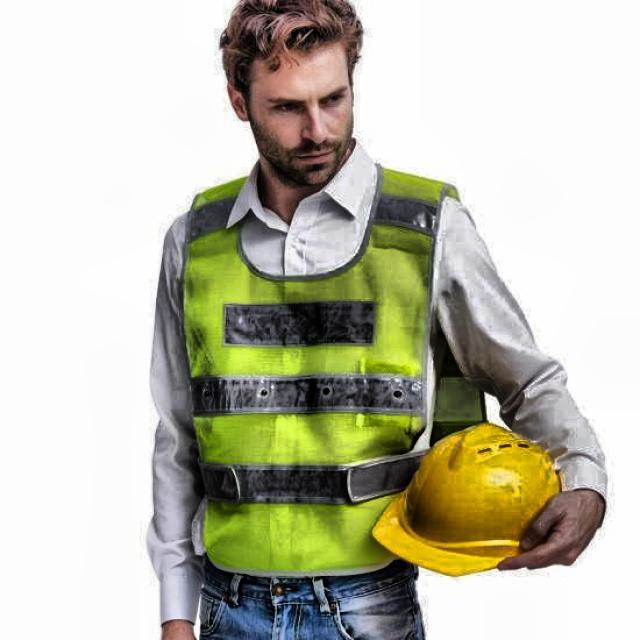safety_helmet: (393, 418, 559, 588)
safety_jacket: (172, 128, 453, 563)
